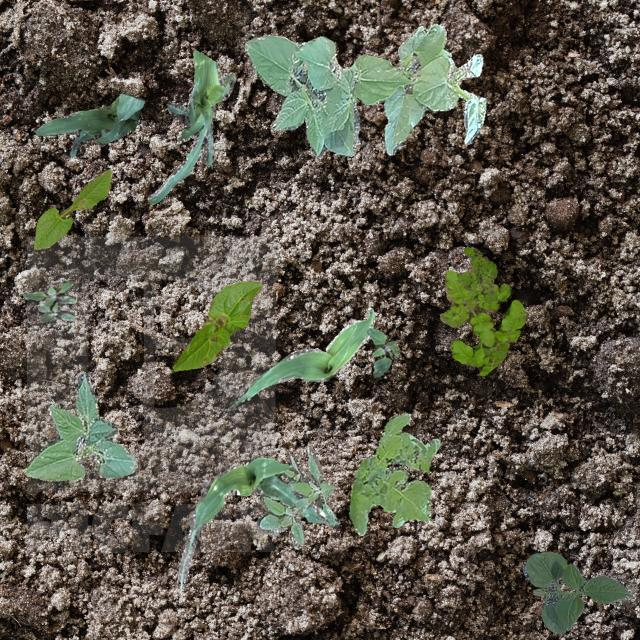crop: (243, 22, 484, 156), (176, 456, 338, 592), (228, 306, 374, 408), (146, 48, 235, 204), (23, 372, 136, 480), (522, 550, 630, 632), (172, 280, 260, 370), (34, 92, 144, 156), (33, 168, 110, 248)
weed: (348, 412, 438, 534), (440, 268, 526, 374), (256, 446, 334, 548), (22, 278, 74, 322), (456, 246, 496, 302), (366, 328, 396, 377)
